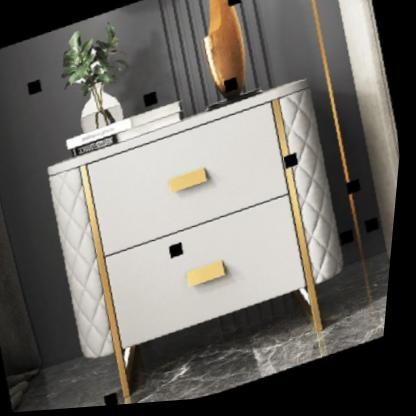Nightstand: (27, 74, 374, 384)
